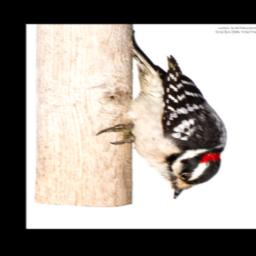Woodpecker: (97, 55, 227, 199)
